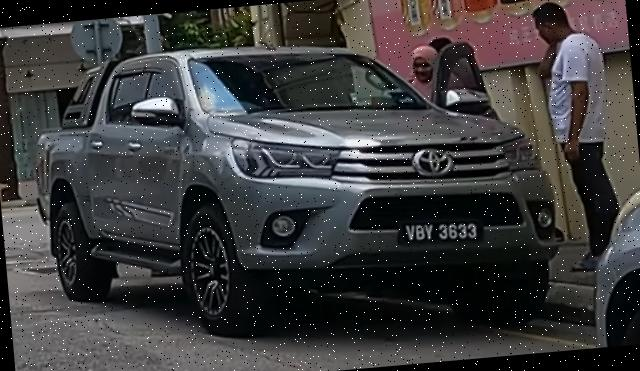License_Plate: (396, 215, 485, 250)
car: (24, 17, 569, 361)
